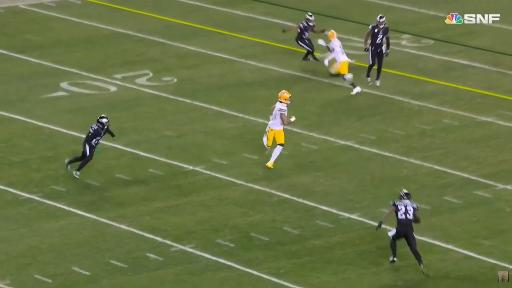Helmet: (278, 90, 292, 104), (97, 114, 110, 129), (376, 15, 386, 27), (306, 13, 314, 26), (400, 190, 411, 199), (328, 30, 337, 40)
Jersey: (391, 200, 418, 231), (84, 124, 109, 148), (268, 102, 287, 130), (327, 39, 349, 62), (370, 25, 389, 49), (296, 22, 313, 40)
Player: (376, 190, 429, 276), (66, 115, 115, 178), (319, 30, 361, 94), (263, 91, 295, 168), (282, 13, 325, 61), (364, 15, 390, 86)
